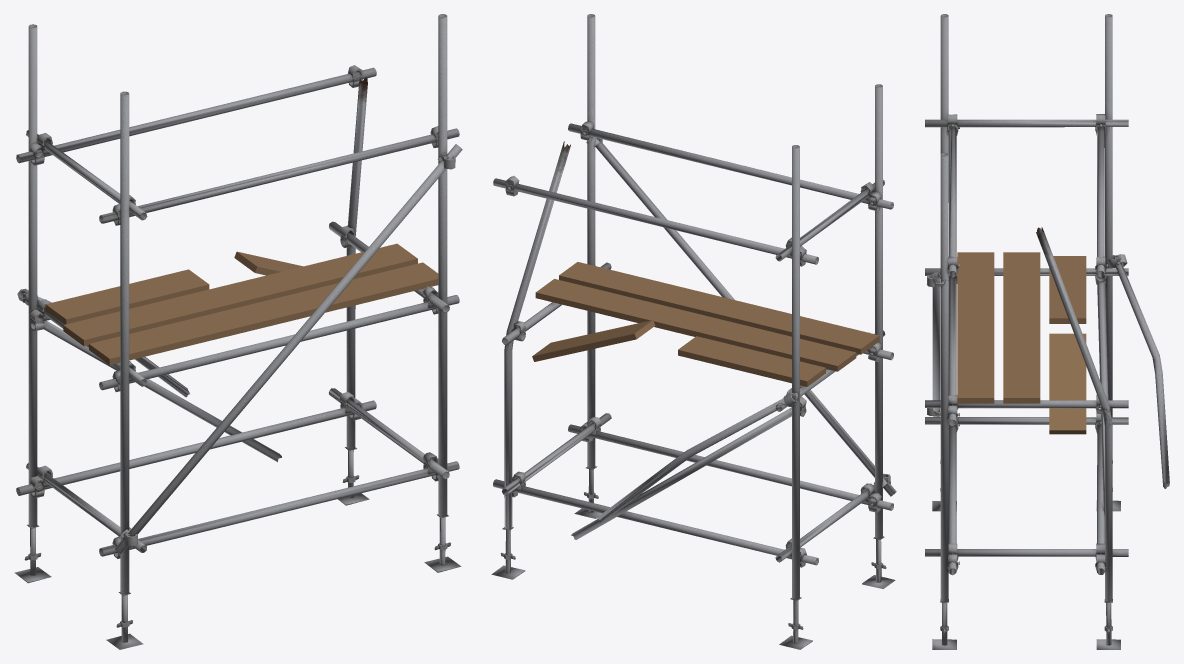
File: industrial_scaffold_section_lod1.glb
The picture shows the model from 3 angles, left to right: view 1: azimuth 30°, elevation 25°; view 2: azimuth 150°, elevation 25°; view 3: azimuth 270°, elevation 25°; orthographic projection. The views are drawn at different scales.
Visible parts, largest first — view 1: industrial_scaffold_section_paint, industrial_scaffold_section_wood; view 2: industrial_scaffold_section_paint, industrial_scaffold_section_wood; view 3: industrial_scaffold_section_paint, industrial_scaffold_section_wood.
Boxes of the visible parts, x1,y1,x2,y2 form: industrial_scaffold_section_paint: (14, 14, 462, 649); industrial_scaffold_section_wood: (45, 243, 438, 364); industrial_scaffold_section_paint: (491, 14, 896, 649); industrial_scaffold_section_wood: (532, 262, 879, 386); industrial_scaffold_section_paint: (925, 14, 1169, 649); industrial_scaffold_section_wood: (957, 252, 1086, 434).
Size of the model in its own units: 2.24 by 3.3 by 1.49.
2 materials, 1 textured.
